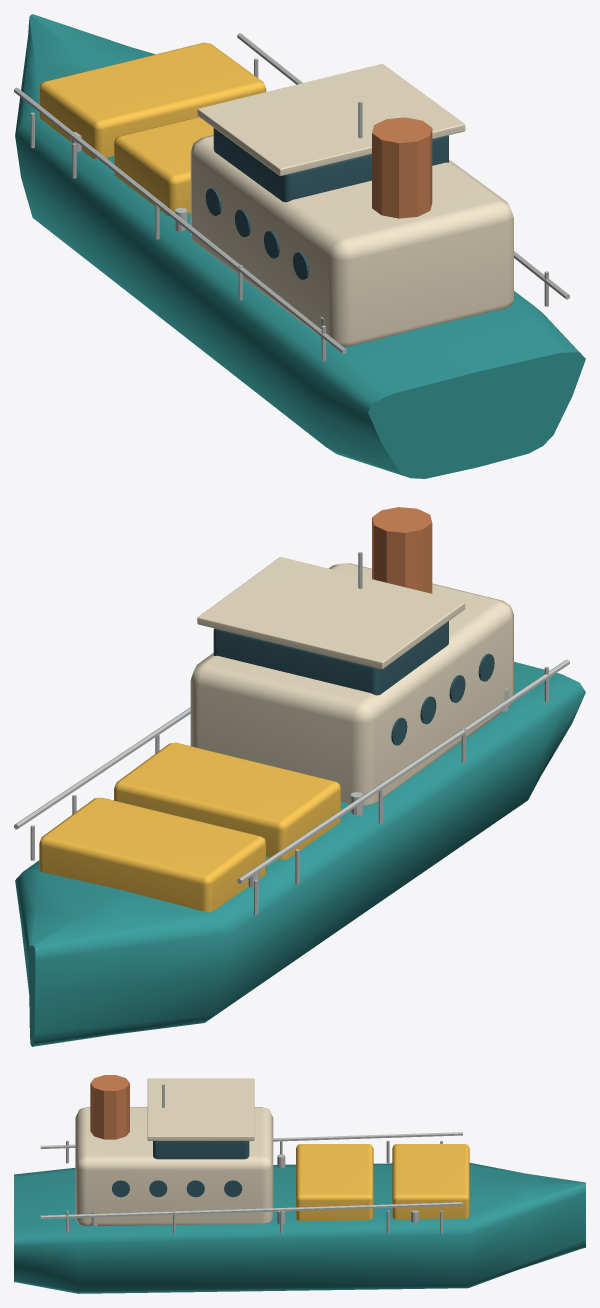
The model's file is ship_detail.glb.
3 renders of one model, top to bottom at view 1: azimuth 30°, elevation 25°; view 2: azimuth 150°, elevation 25°; view 3: azimuth 270°, elevation 25°, orthographic. The views are drawn at different scales.
Visible parts, largest first — view 1: Harbor hull, ShipModel traffic_cream.001, ShipModel traffic_gold, ShipModel traffic_glass, Funnel, ShipModel traffic_metal; view 2: Harbor hull, ShipModel traffic_cream.001, ShipModel traffic_gold, ShipModel traffic_glass, ShipModel traffic_metal, Funnel; view 3: Harbor hull, ShipModel traffic_cream.001, ShipModel traffic_gold, ShipModel traffic_metal, ShipModel traffic_glass, Funnel.
Part boxes in pixels (left/top/right/bottom): Harbor hull: left=15, top=14, right=585, bottom=478; ShipModel traffic_cream.001: left=190, top=64, right=513, bottom=346; ShipModel traffic_gold: left=39, top=42, right=266, bottom=216; ShipModel traffic_glass: left=205, top=128, right=448, bottom=279; Funnel: left=372, top=117, right=432, bottom=218; ShipModel traffic_metal: left=14, top=33, right=569, bottom=361; Harbor hull: left=15, top=661, right=585, bottom=1046; ShipModel traffic_cream.001: left=190, top=557, right=513, bottom=805; ShipModel traffic_gold: left=39, top=742, right=340, bottom=912; ShipModel traffic_glass: left=213, top=621, right=494, bottom=745; ShipModel traffic_metal: left=14, top=552, right=569, bottom=915; Funnel: left=372, top=507, right=432, bottom=593; Harbor hull: left=14, top=1163, right=585, bottom=1293; ShipModel traffic_cream.001: left=75, top=1078, right=273, bottom=1225; ShipModel traffic_gold: left=296, top=1144, right=469, bottom=1221; ShipModel traffic_metal: left=40, top=1084, right=462, bottom=1233; ShipModel traffic_glass: left=111, top=1141, right=249, bottom=1197; Funnel: left=90, top=1075, right=129, bottom=1139.
Size of the model in its own units: 3.22 by 3.85 by 10.7.
